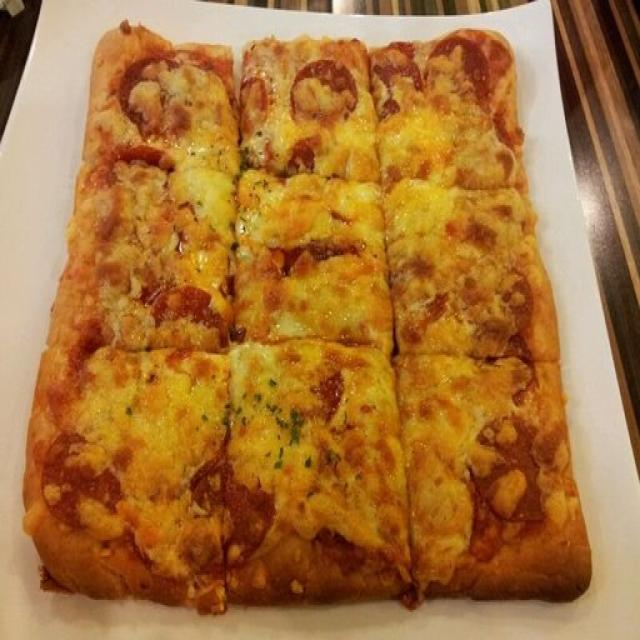Pizza: (23, 25, 595, 608)
